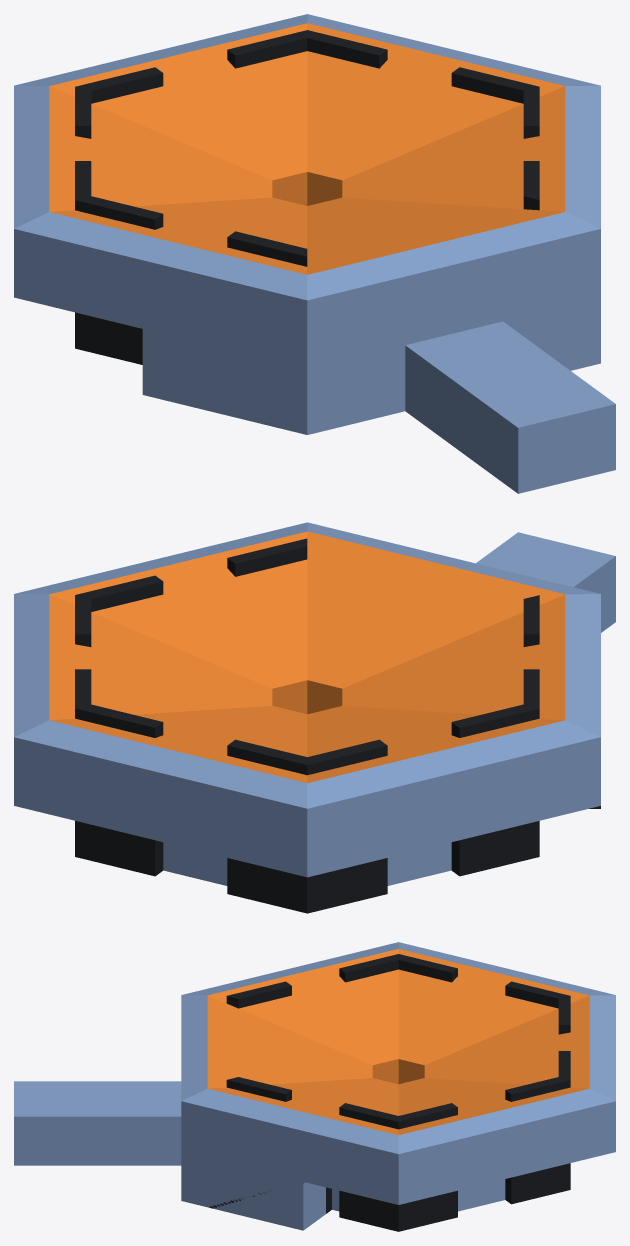
The model's file is game_level_test_01.FBX.
The picture shows the model from 3 angles, top to bottom: view 1: azimuth 30°, elevation 25°; view 2: azimuth 150°, elevation 25°; view 3: azimuth 270°, elevation 25°; orthographic projection. The views are drawn at different scales.
Parts seen in each view (by area): view 1: Cylinder011, Object013, Object016, Object017; view 2: Cylinder011, Object013, Object017, Object016; view 3: Cylinder011, Object013, Object017, Object016.
Part boxes in pixels (x1,y1,x2,y2): Cylinder011: [14, 14, 615, 493]; Object013: [75, 30, 539, 364]; Object016: [227, 231, 307, 266]; Object017: [523, 161, 539, 210]; Cylinder011: [14, 522, 615, 885]; Object013: [75, 575, 539, 913]; Object017: [227, 538, 307, 576]; Object016: [523, 595, 539, 646]; Cylinder011: [14, 942, 615, 1230]; Object013: [339, 954, 570, 1231]; Object017: [226, 1077, 331, 1213]; Object016: [226, 981, 291, 1008].
Size of the model in its own units: 37.69 by 45.2 by 9.11.
